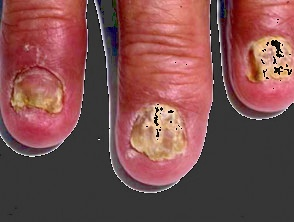Nail_psoriasis: (119, 86, 204, 176), (4, 36, 73, 134), (230, 5, 294, 97)
